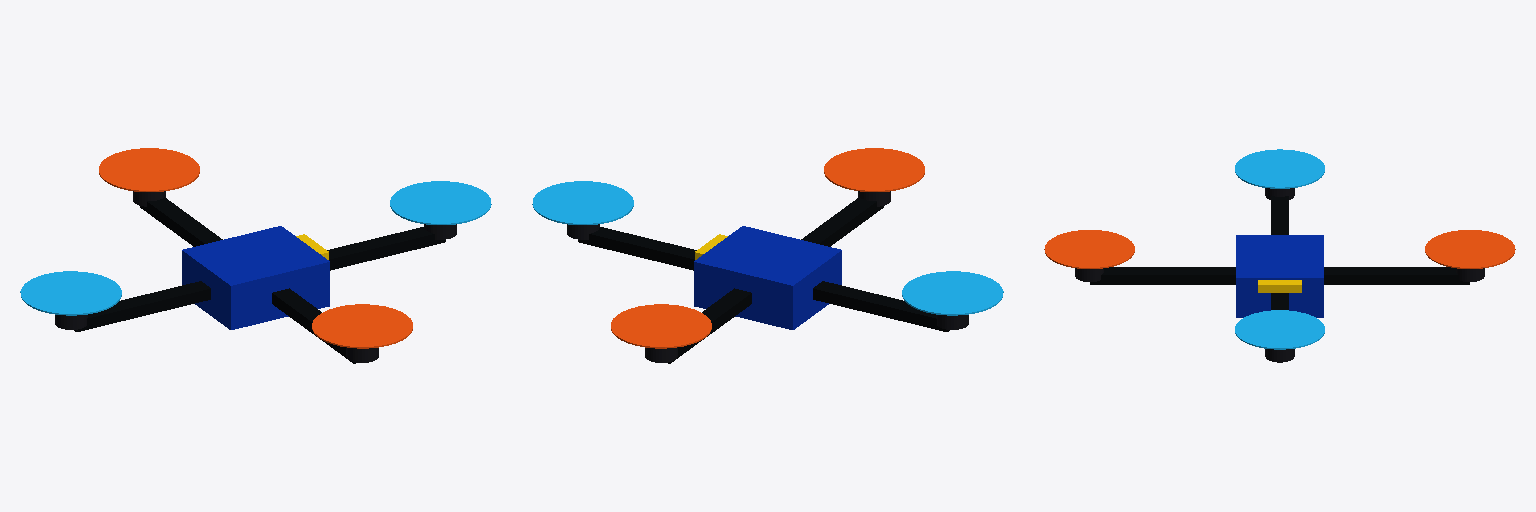
URDF robot description (racer_so3_quadrotor):
<?xml version="1.0"?>
<!--
  RACER SO3 quadrotor model for Isaac Sim.

  Exact dynamics copied from:
    uav_simulator/so3_quadrotor_simulator/src/dynamics/Quadrotor.cpp

  The upstream simulator is a mathematical rigid-body model and does not
  contain CAD, a URDF, or collision geometry.  The mass and inertia below are
  source-faithful.  Body, arm, motor, and collision dimensions are documented
  approximations chosen only to make the rigid body visible and collidable.

  Frame convention: ROS FLU body frame (+X forward, +Y left, +Z up).
  Rotor layout: "+" configuration with rotor centers 0.26 m from the origin.
-->
<robot name="racer_so3_quadrotor">
  <material name="carbon">
    <color rgba="0.055 0.065 0.075 1.0"/>
  </material>
  <material name="body_blue">
    <color rgba="0.05 0.22 0.72 1.0"/>
  </material>
  <material name="motor_dark">
    <color rgba="0.12 0.12 0.14 1.0"/>
  </material>
  <material name="rotor_yaw_positive">
    <color rgba="0.15 0.75 1.0 0.42"/>
  </material>
  <material name="rotor_yaw_negative">
    <color rgba="1.0 0.38 0.10 0.42"/>
  </material>
  <material name="forward_marker">
    <color rgba="1.0 0.82 0.05 1.0"/>
  </material>

  <!--
    A single rigid link preserves the upstream lumped mass and inertia exactly.
    Propellers are visual-only because URDF cannot encode thrust coefficients,
    rotor drag torque, or the upstream first-order motor state.
  -->
  <link name="base_link">
    <inertial>
      <origin xyz="0 0 0" rpy="0 0 0"/>
      <mass value="0.98"/>
      <inertia
        ixx="0.00264" ixy="0.0" ixz="0.0"
        iyy="0.00264" iyz="0.0"
        izz="0.00496"/>
    </inertial>

    <!-- Inferred central fuselage. -->
    <visual name="fuselage">
      <origin xyz="0 0 0" rpy="0 0 0"/>
      <geometry>
        <box size="0.14 0.12 0.06"/>
      </geometry>
      <material name="body_blue"/>
    </visual>

    <!-- Inferred full-span "+" arms. -->
    <visual name="arm_x">
      <origin xyz="0 0 0" rpy="0 0 0"/>
      <geometry>
        <box size="0.52 0.025 0.015"/>
      </geometry>
      <material name="carbon"/>
    </visual>
    <visual name="arm_y">
      <origin xyz="0 0 0" rpy="0 0 0"/>
      <geometry>
        <box size="0.025 0.52 0.015"/>
      </geometry>
      <material name="carbon"/>
    </visual>

    <!-- +X is visibly marked as the vehicle nose. -->
    <visual name="nose_marker">
      <origin xyz="0.077 0 0.021" rpy="0 0 0"/>
      <geometry>
        <box size="0.018 0.06 0.012"/>
      </geometry>
      <material name="forward_marker"/>
    </visual>

    <!-- Inferred motor cans at source-faithful rotor centers. -->
    <visual name="motor_0">
      <origin xyz="0.26 0 0.018" rpy="0 0 0"/>
      <geometry>
        <cylinder radius="0.020" length="0.036"/>
      </geometry>
      <material name="motor_dark"/>
    </visual>
    <visual name="motor_1">
      <origin xyz="-0.26 0 0.018" rpy="0 0 0"/>
      <geometry>
        <cylinder radius="0.020" length="0.036"/>
      </geometry>
      <material name="motor_dark"/>
    </visual>
    <visual name="motor_2">
      <origin xyz="0 0.26 0.018" rpy="0 0 0"/>
      <geometry>
        <cylinder radius="0.020" length="0.036"/>
      </geometry>
      <material name="motor_dark"/>
    </visual>
    <visual name="motor_3">
      <origin xyz="0 -0.26 0.018" rpy="0 0 0"/>
      <geometry>
        <cylinder radius="0.020" length="0.036"/>
      </geometry>
      <material name="motor_dark"/>
    </visual>

    <!-- Source-faithful 0.062 m propeller radius; visual-only thin discs. -->
    <visual name="propeller_0">
      <origin xyz="0.26 0 0.040" rpy="0 0 0"/>
      <geometry>
        <cylinder radius="0.062" length="0.002"/>
      </geometry>
      <material name="rotor_yaw_positive"/>
    </visual>
    <visual name="propeller_1">
      <origin xyz="-0.26 0 0.040" rpy="0 0 0"/>
      <geometry>
        <cylinder radius="0.062" length="0.002"/>
      </geometry>
      <material name="rotor_yaw_positive"/>
    </visual>
    <visual name="propeller_2">
      <origin xyz="0 0.26 0.040" rpy="0 0 0"/>
      <geometry>
        <cylinder radius="0.062" length="0.002"/>
      </geometry>
      <material name="rotor_yaw_negative"/>
    </visual>
    <visual name="propeller_3">
      <origin xyz="0 -0.26 0.040" rpy="0 0 0"/>
      <geometry>
        <cylinder radius="0.062" length="0.002"/>
      </geometry>
      <material name="rotor_yaw_negative"/>
    </visual>

    <!--
      Inferred conservative collision geometry.  Propeller discs are excluded
      to avoid unstable contacts with thin, fast-spinning geometry.  If rotor
      envelope collision is required, use a separate safety volume.
    -->
    <collision name="fuselage_collision">
      <origin xyz="0 0 0" rpy="0 0 0"/>
      <geometry>
        <box size="0.16 0.14 0.07"/>
      </geometry>
    </collision>
    <collision name="arm_x_collision">
      <origin xyz="0 0 0" rpy="0 0 0"/>
      <geometry>
        <box size="0.54 0.03 0.025"/>
      </geometry>
    </collision>
    <collision name="arm_y_collision">
      <origin xyz="0 0 0" rpy="0 0 0"/>
      <geometry>
        <box size="0.03 0.54 0.025"/>
      </geometry>
    </collision>
    <collision name="motor_0_collision">
      <origin xyz="0.26 0 0.018" rpy="0 0 0"/>
      <geometry>
        <cylinder radius="0.024" length="0.040"/>
      </geometry>
    </collision>
    <collision name="motor_1_collision">
      <origin xyz="-0.26 0 0.018" rpy="0 0 0"/>
      <geometry>
        <cylinder radius="0.024" length="0.040"/>
      </geometry>
    </collision>
    <collision name="motor_2_collision">
      <origin xyz="0 0.26 0.018" rpy="0 0 0"/>
      <geometry>
        <cylinder radius="0.024" length="0.040"/>
      </geometry>
    </collision>
    <collision name="motor_3_collision">
      <origin xyz="0 -0.26 0.018" rpy="0 0 0"/>
      <geometry>
        <cylinder radius="0.024" length="0.040"/>
      </geometry>
    </collision>
  </link>
</robot>

--- Facts derived from the render (not from the file) ---
3 views of the same robot in one strip: view 1: azimuth 30°, elevation 25°; view 2: azimuth 150°, elevation 25°; view 3: azimuth 270°, elevation 25° (orthographic).
Robot: racer_so3_quadrotor — 1 links, 0 joints (none); root link base_link; default pose: all joints at 0.
Links seen in each view (by area): view 1: base_link; view 2: base_link; view 3: base_link.
Link boxes in pixels (x1=…): base_link: x1=20, y1=148, x2=491, y2=363; base_link: x1=532, y1=148, x2=1003, y2=363; base_link: x1=1044, y1=149, x2=1515, y2=362.
Size in the robot's own frame: 0.644 by 0.644 by 0.071 metres.
Geometry: primitives only (box / cylinder / sphere), no mesh files.
